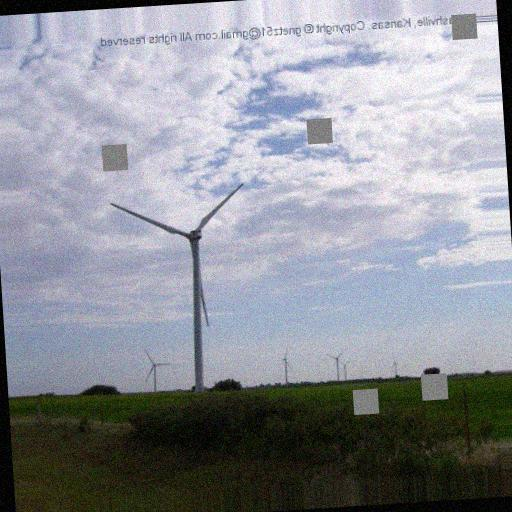wind turbine: (110, 183, 246, 391), (141, 349, 173, 395), (274, 348, 296, 385), (326, 347, 345, 380)
